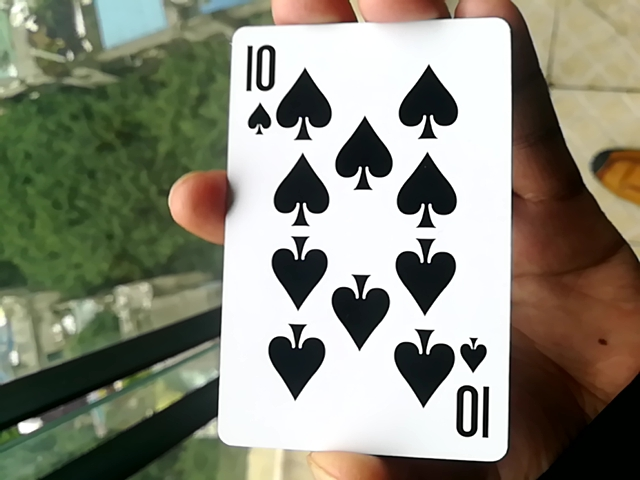ht 10: (220, 10, 497, 461)
